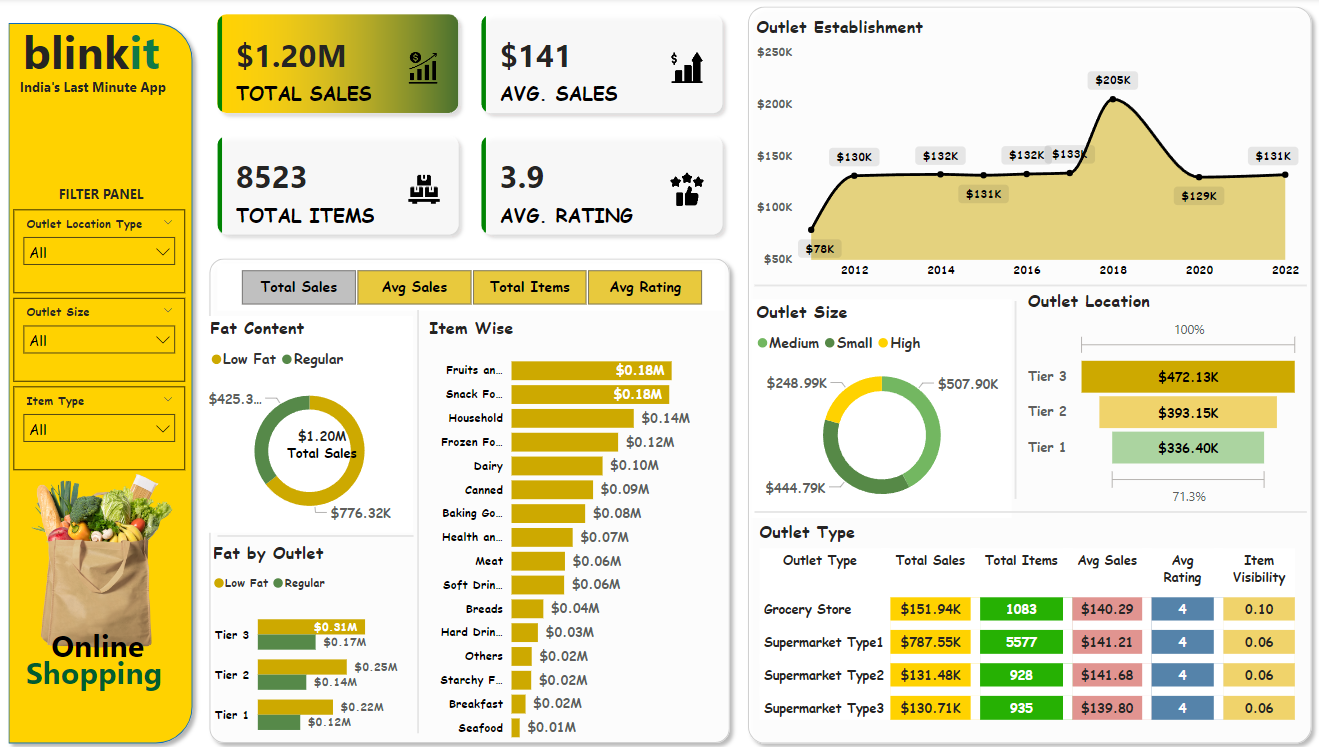

The page's visual inventory and layout, read from the dashboard file:
{"tool":"powerbi","page":{"name":"Page 1","canvas":[1400,800],"ordinal":0},"visuals":[{"type":"shape","box":[0,17.5,213.3,782.5],"z":0},{"type":"textbox","box":[19.4,17.7,171.4,77.8],"z":1000},{"type":"textbox","box":[16.3,79.5,180.7,34.3],"z":2000},{"type":"cardVisual","fields":{"Data":["BlinkIT Grocery Data.Total Sales","BlinkIT Grocery Data.Avg Sales","BlinkIT Grocery Data.Total Items","BlinkIT Grocery Data.Avg Rating"]},"box":[214,0,570,268],"z":3000},{"type":"shape","box":[214,268,570,532],"z":4000},{"type":"donutChart","title":"Fat Content","fields":{"Y":["BlinkIT Grocery Data.Total Sales"],"Category":["BlinkIT Grocery Data.Item Fat Content"]},"box":[218,338,220,230],"z":5000},{"type":"slicer","fields":{"Values":["Metricks.Metricks"]},"box":[230,282,538,50],"z":6000},{"type":"cardVisual","fields":{"Data":["BlinkIT Grocery Data.Total Sales"]},"box":[286,434,110,78],"z":7000},{"type":"clusteredBarChart","title":"Fat by Outlet","fields":{"Y":["BlinkIT Grocery Data.Total Sales"],"Category":["BlinkIT Grocery Data.Outlet Location Type"],"Series":["BlinkIT Grocery Data.Item Fat Content"]},"box":[222,576,220,224],"z":8000},{"type":"shape","box":[230,562,208,18],"z":9000},{"type":"shape","box":[438.2,331.8,11.8,449.1],"z":10000},{"type":"barChart","title":"Item Wise","fields":{"Y":["BlinkIT Grocery Data.Total Sales"],"Category":["BlinkIT Grocery Data.Item Type"]},"box":[450,338,318,462],"z":11000},{"type":"shape","box":[784,0,616,800],"z":12000},{"type":"lineChart","title":"Outlet Establishment","fields":{"Category":["BlinkIT Grocery Data.Outlet Establishment Year"],"Y":["BlinkIT Grocery Data.Total Sales"]},"box":[798,18,586,290],"z":13000},{"type":"shape","box":[800,296,586,18],"z":14000},{"type":"donutChart","title":"Outlet Size","fields":{"Y":["BlinkIT Grocery Data.Total Sales"],"Category":["BlinkIT Grocery Data.Outlet Size"]},"box":[798,320,276,232],"z":15000},{"type":"shape","box":[1070,322,16,210],"z":16000},{"type":"funnel","title":"Outlet Location","fields":{"Y":["BlinkIT Grocery Data.Total Sales"],"Category":["BlinkIT Grocery Data.Outlet Location Type"]},"box":[1086,308,298,236],"z":17000},{"type":"shape","box":[800,536,586,18],"z":18000},{"type":"pivotTable","title":"Outlet Type","fields":{"Rows":["BlinkIT Grocery Data.Outlet Type"],"Values":["BlinkIT Grocery Data.Total Sales","BlinkIT Grocery Data.Total Items","BlinkIT Grocery Data.Avg Sales","BlinkIT Grocery Data.Avg Rating","Avg(BlinkIT Grocery Data.Item Visibility)"]},"box":[800,554,584,228],"z":19000},{"type":"slicer","fields":{"Values":["BlinkIT Grocery Data.Outlet Location Type"]},"box":[14.1,224.5,182,88.4],"z":20000},{"type":"slicer","fields":{"Values":["BlinkIT Grocery Data.Outlet Size"]},"box":[14.1,318.1,182,88.4],"z":21000},{"type":"slicer","fields":{"Values":["BlinkIT Grocery Data.Item Type"]},"box":[14.1,411.8,182,88.4],"z":22000},{"type":"textbox","box":[21.2,192.6,173.2,31.8],"z":23000},{"type":"image","box":[8.8,500.2,197.9,194.4],"z":24000},{"type":"textbox","box":[49.5,659.2,116.6,54.8],"z":25000},{"type":"textbox","box":[23,687.5,167.9,58.3],"z":26000}]}

Visuals, with their boxes in screenshot pixels (x1, y1, x2, y2), scaled from the page's 1400x800 canvas onto the 1319x747 screenshot:
shape: {"x1": 0, "y1": 16, "x2": 201, "y2": 746}
textbox: {"x1": 18, "y1": 17, "x2": 180, "y2": 89}
textbox: {"x1": 15, "y1": 74, "x2": 186, "y2": 106}
cardVisual - BlinkIT Grocery Data.Total Sales x BlinkIT Grocery Data.Avg Sales: {"x1": 202, "y1": 0, "x2": 739, "y2": 250}
shape: {"x1": 202, "y1": 250, "x2": 739, "y2": 746}
"Fat Content" donutChart: {"x1": 205, "y1": 316, "x2": 413, "y2": 530}
slicer - Metricks.Metricks: {"x1": 217, "y1": 263, "x2": 724, "y2": 310}
cardVisual - BlinkIT Grocery Data.Total Sales: {"x1": 269, "y1": 405, "x2": 373, "y2": 478}
"Fat by Outlet" clusteredBarChart: {"x1": 209, "y1": 538, "x2": 416, "y2": 746}
shape: {"x1": 217, "y1": 525, "x2": 413, "y2": 542}
shape: {"x1": 413, "y1": 310, "x2": 424, "y2": 729}
"Item Wise" barChart: {"x1": 424, "y1": 316, "x2": 724, "y2": 746}
shape: {"x1": 739, "y1": 0, "x2": 1318, "y2": 746}
"Outlet Establishment" lineChart: {"x1": 752, "y1": 17, "x2": 1304, "y2": 288}
shape: {"x1": 754, "y1": 276, "x2": 1306, "y2": 293}
"Outlet Size" donutChart: {"x1": 752, "y1": 299, "x2": 1012, "y2": 515}
shape: {"x1": 1008, "y1": 301, "x2": 1023, "y2": 497}
"Outlet Location" funnel: {"x1": 1023, "y1": 288, "x2": 1304, "y2": 508}
shape: {"x1": 754, "y1": 500, "x2": 1306, "y2": 517}
"Outlet Type" pivotTable: {"x1": 754, "y1": 517, "x2": 1304, "y2": 730}
slicer - BlinkIT Grocery Data.Outlet Location Type: {"x1": 13, "y1": 210, "x2": 185, "y2": 292}
slicer - BlinkIT Grocery Data.Outlet Size: {"x1": 13, "y1": 297, "x2": 185, "y2": 380}
slicer - BlinkIT Grocery Data.Item Type: {"x1": 13, "y1": 385, "x2": 185, "y2": 467}
textbox: {"x1": 20, "y1": 180, "x2": 183, "y2": 210}
image: {"x1": 8, "y1": 467, "x2": 195, "y2": 649}
textbox: {"x1": 47, "y1": 616, "x2": 156, "y2": 667}
textbox: {"x1": 22, "y1": 642, "x2": 180, "y2": 696}
